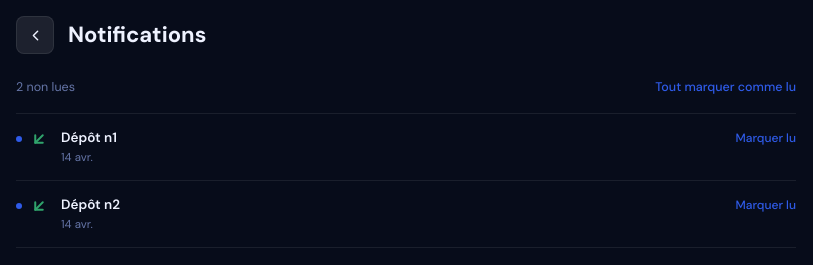
Test: Notifications — per-row marking › disables only the row being marked, never the whole list
The image size is (813, 265).
Click the button "Marquer lu" in the row of "Dépôt n1".
click(766, 138)  # box [736,129,796,147]
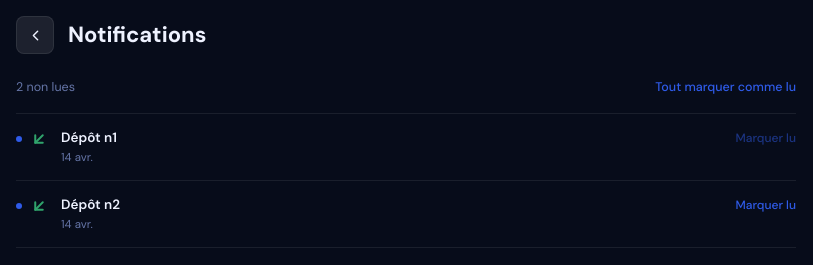
Expected: the button "Marquer lu" in the row of "Dépôt n2" is enabled, [736,196,796,214]
Expected: the button "Marquer lu" in the row of "Dépôt n1" is disabled, [736,129,796,147]
